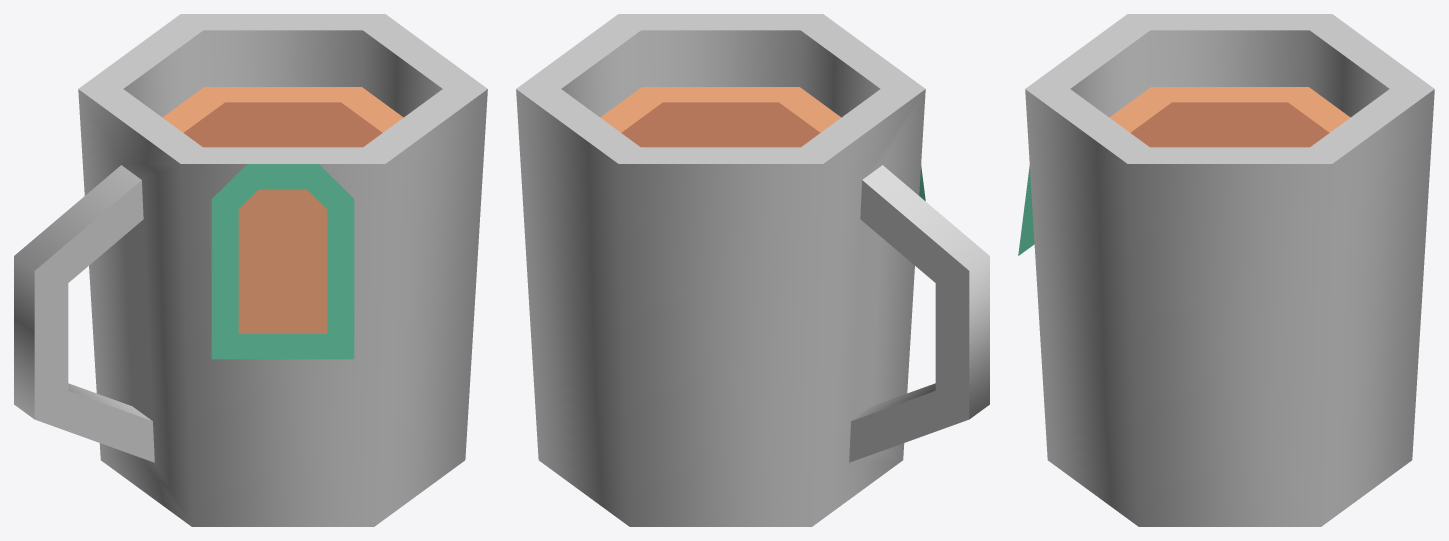
The model's file is cupThea.dae.
3 views of the same model, side by side, from view 1: azimuth 30°, elevation 25°; view 2: azimuth 150°, elevation 25°; view 3: azimuth 270°, elevation 25° (orthographic).
Parts seen in each view (by area): view 1: cupThea, label; view 2: cupThea; view 3: cupThea, label.
Part boxes in pixels (left/top/right/bottom): cupThea: left=14, top=14, right=487, bottom=526; label: left=211, top=164, right=354, bottom=359; cupThea: left=516, top=14, right=989, bottom=526; cupThea: left=1025, top=14, right=1434, bottom=526; label: left=1018, top=166, right=1034, bottom=255.
Bounding box in the file's own units: 0.2325 × 0.2 × 0.2034.
